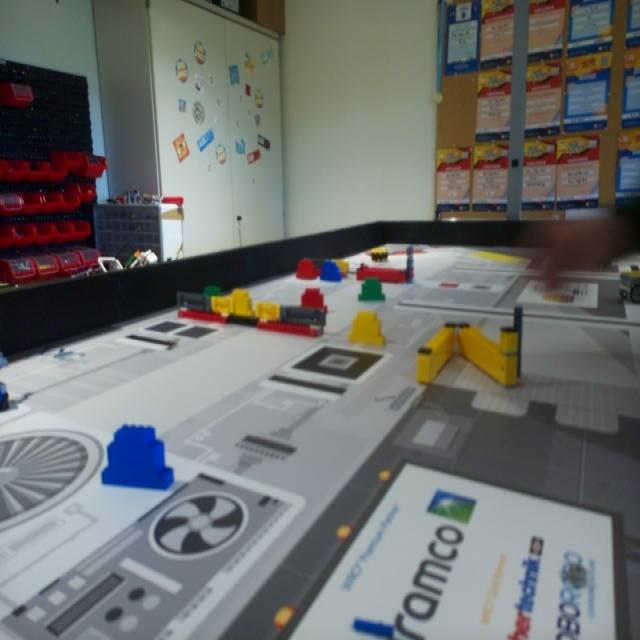blau: (101, 424, 175, 490), (321, 262, 341, 284)
gruen: (358, 278, 386, 302), (201, 286, 223, 295)
rot: (299, 288, 328, 314), (296, 257, 317, 280)
yellow: (348, 310, 388, 348), (227, 289, 254, 316)
